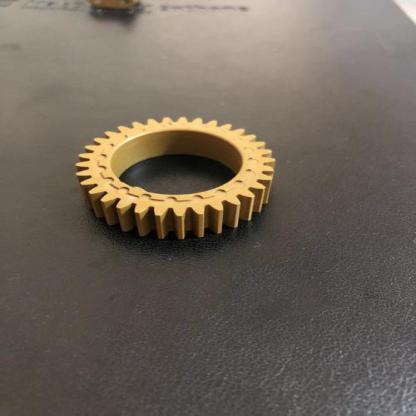FOD: (75, 113, 279, 246)
